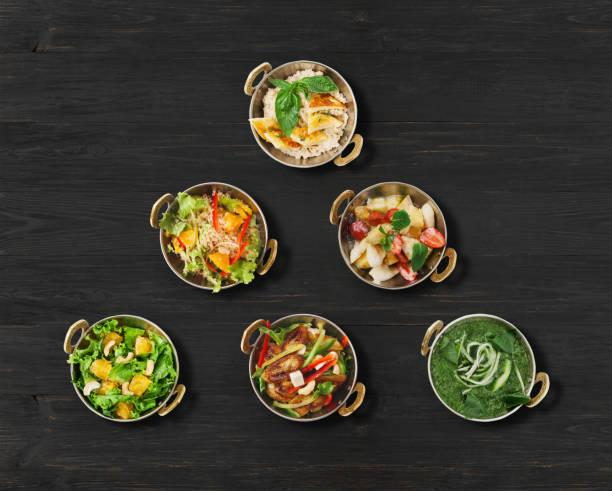Braised Crucian Carp: (421, 312, 550, 420), (241, 313, 363, 420), (63, 312, 183, 420), (245, 60, 360, 169), (158, 184, 273, 293), (332, 181, 447, 288)
